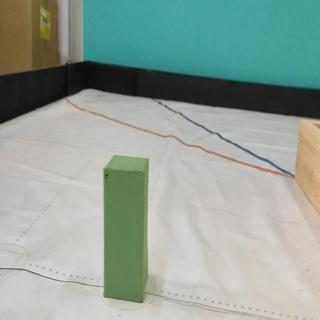greenbox: (104, 154, 149, 305)
